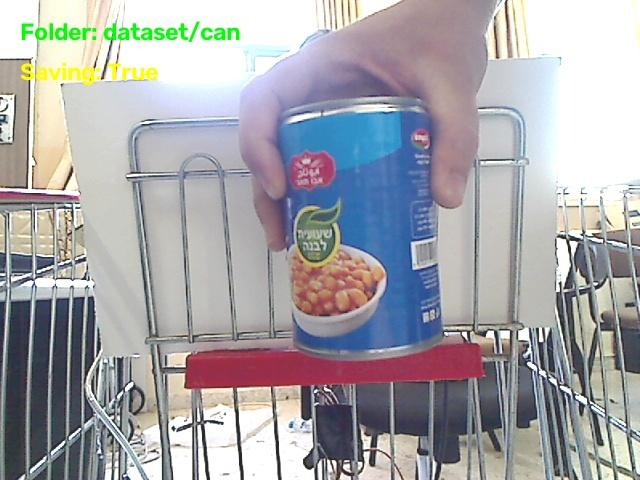can: (279, 97, 442, 359)
